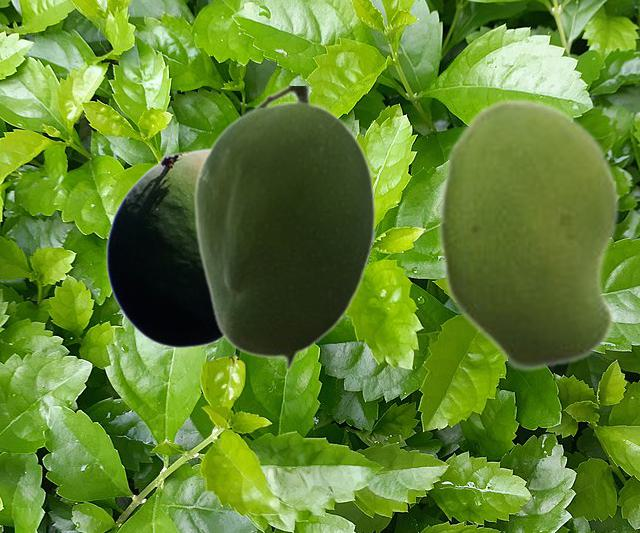green_mango: (192, 86, 375, 371), (437, 97, 620, 372), (105, 147, 223, 347)
